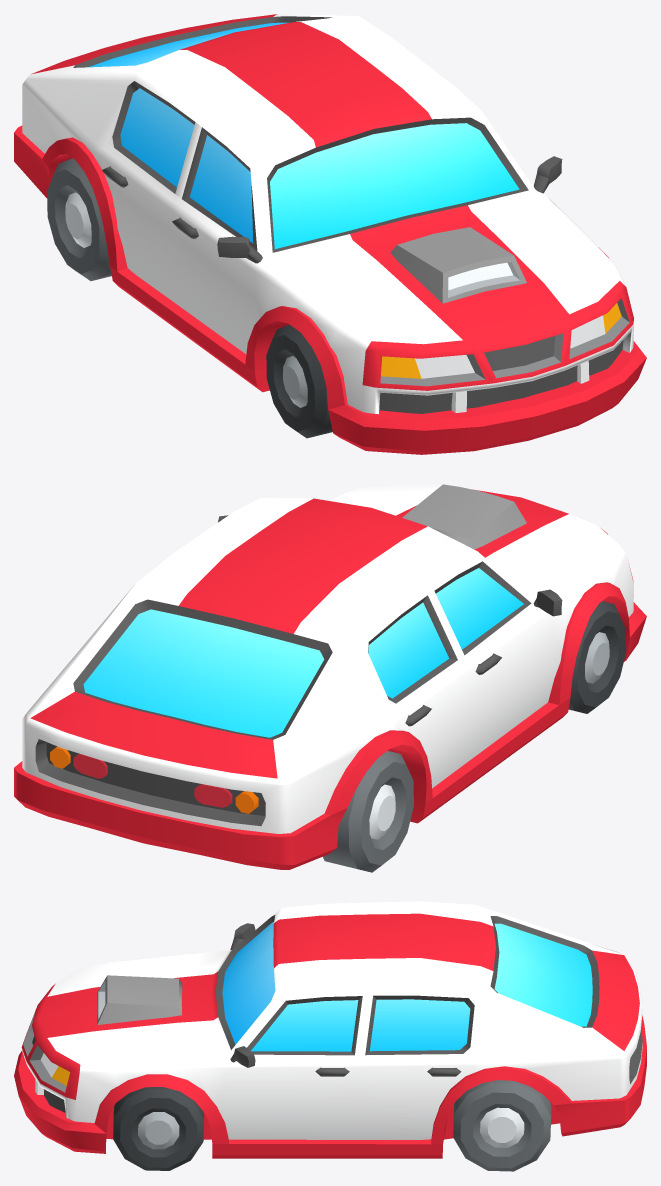
File: Car_30.glb
3 renders of one model, top to bottom at view 1: azimuth 30°, elevation 25°; view 2: azimuth 150°, elevation 25°; view 3: azimuth 270°, elevation 25°, orthographic. The views are drawn at different scales.
Parts seen in each view (by area): view 1: Car_30, Wheel_078, Wheel_077; view 2: Car_30, Wheel_078, Wheel_077; view 3: Car_30, Wheel_080, Wheel_079.
Boxes of the visible parts, x1,y1,x2,y2 form: Car_30: [14, 14, 646, 454]; Wheel_078: [47, 158, 111, 280]; Wheel_077: [266, 324, 332, 438]; Car_30: [14, 483, 646, 869]; Wheel_078: [323, 751, 413, 872]; Wheel_077: [568, 601, 626, 713]; Car_30: [14, 901, 646, 1158]; Wheel_080: [453, 1080, 551, 1171]; Wheel_079: [113, 1087, 203, 1170].
Bounding box in the file's own units: 2.41 × 1.52 × 4.83.
Materials: 2 (2 with a texture image).
